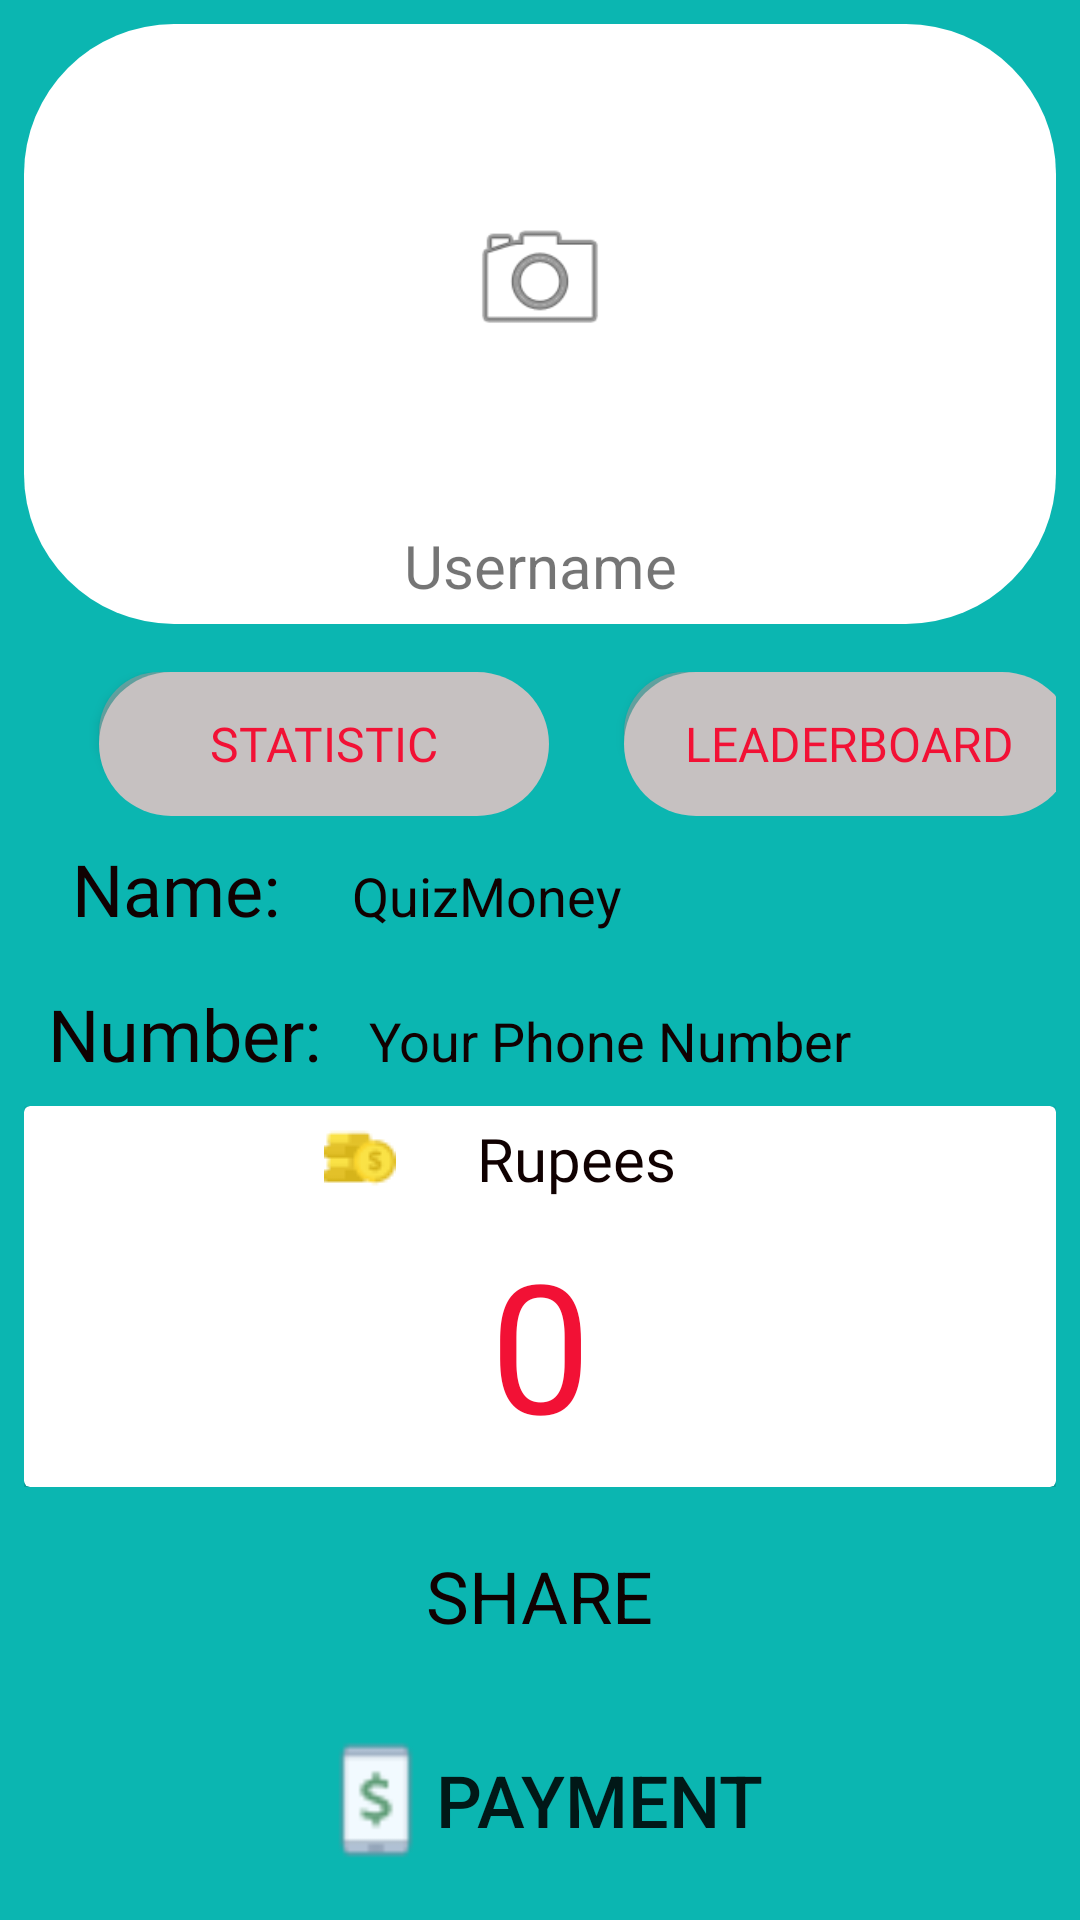

Icons on this 1080 x 1920 Android screen, each with its box as (x1, y1, x2, y2):
camera: (482, 230, 598, 323)
